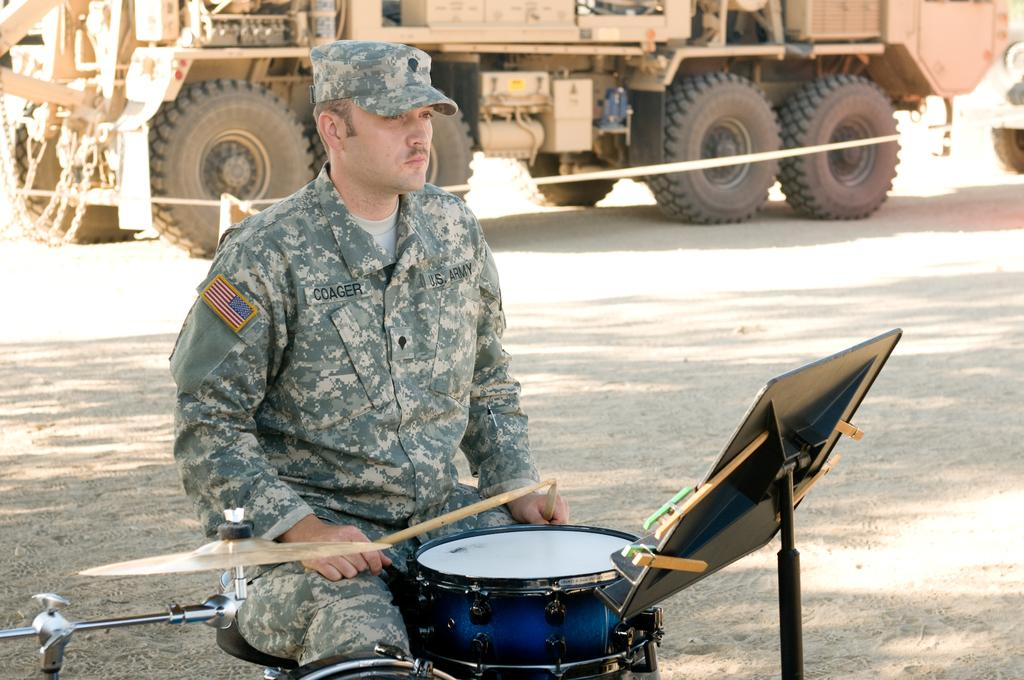Hat: (305, 34, 459, 120)
